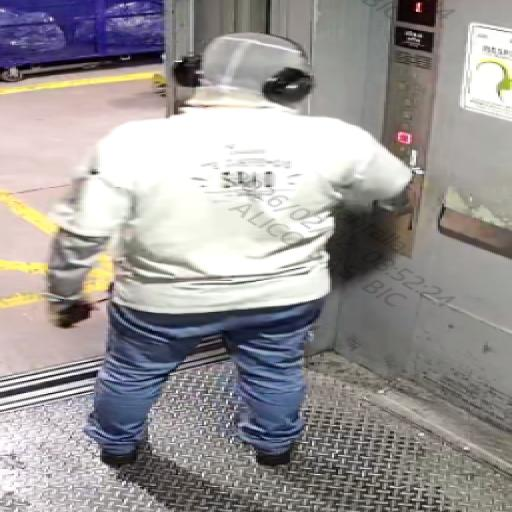person: (31, 16, 502, 489)
